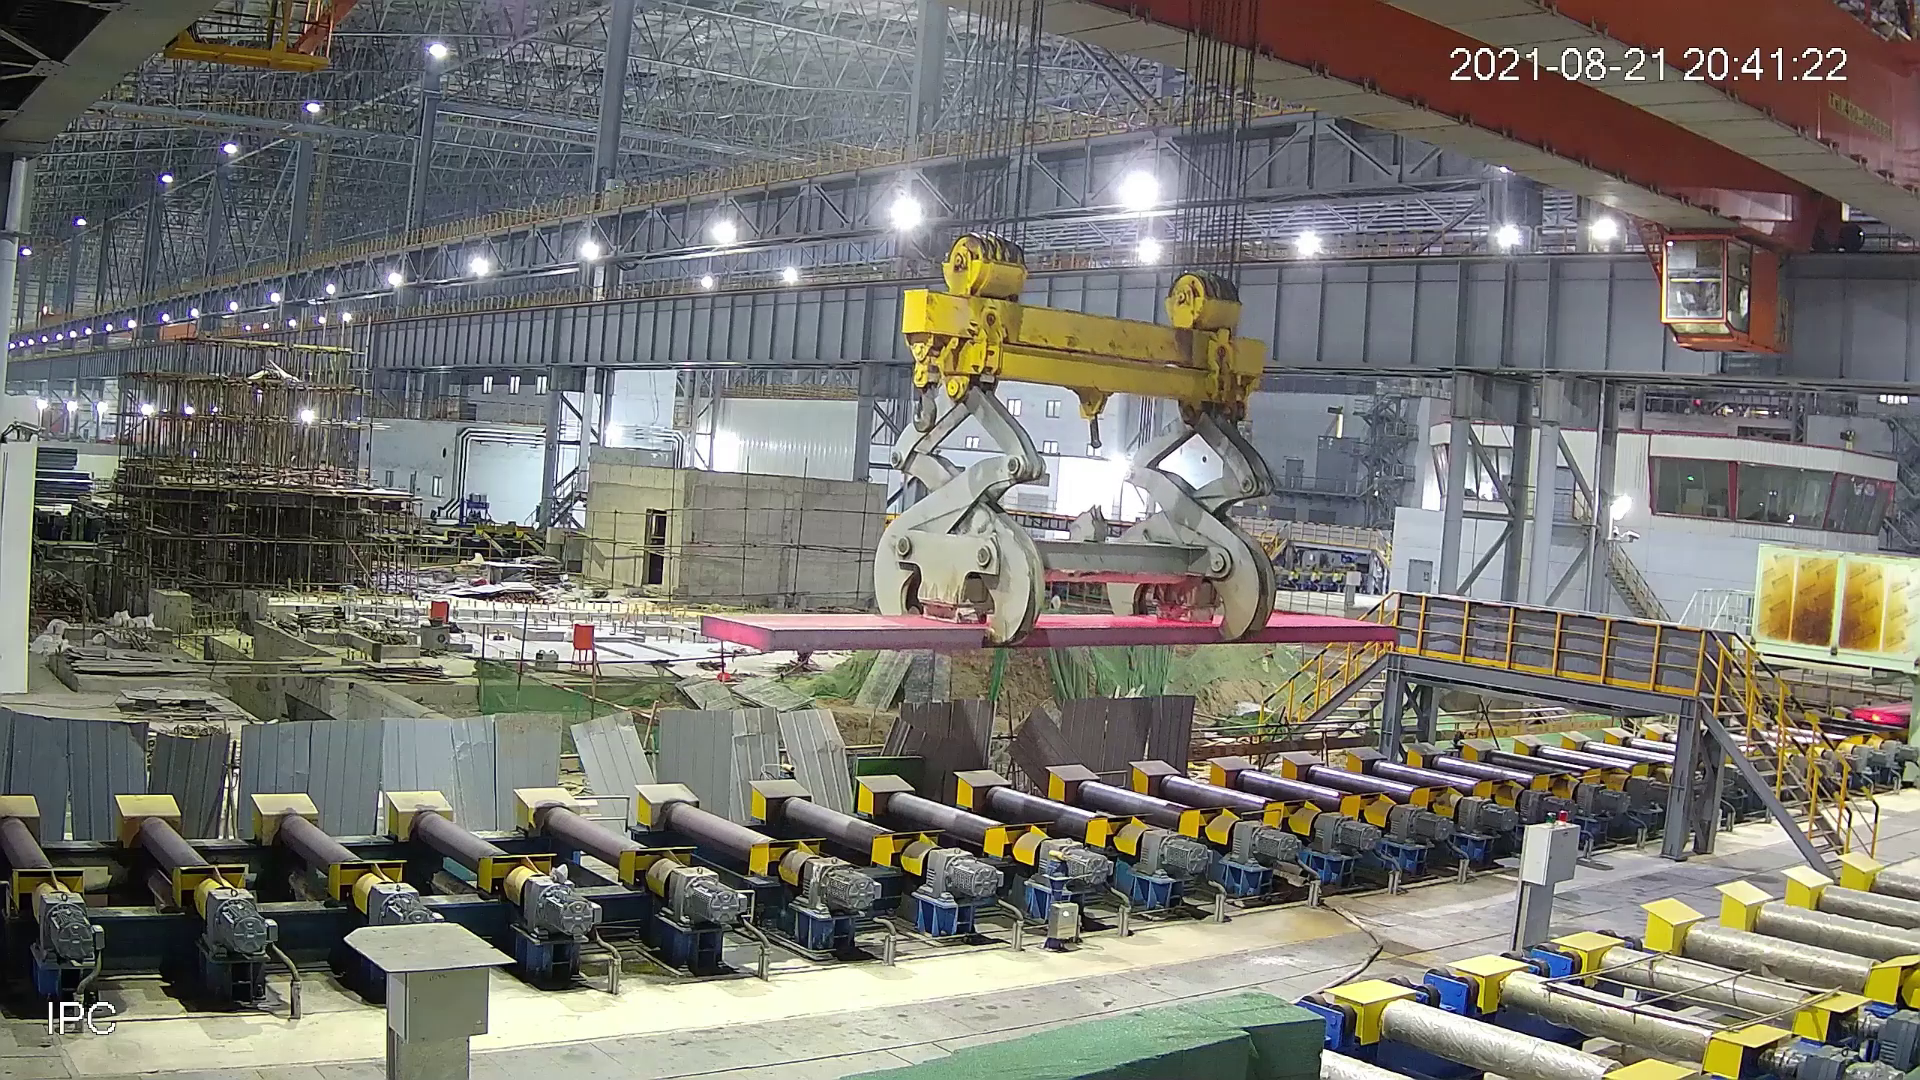craneandslab: (688, 228, 1414, 650)
